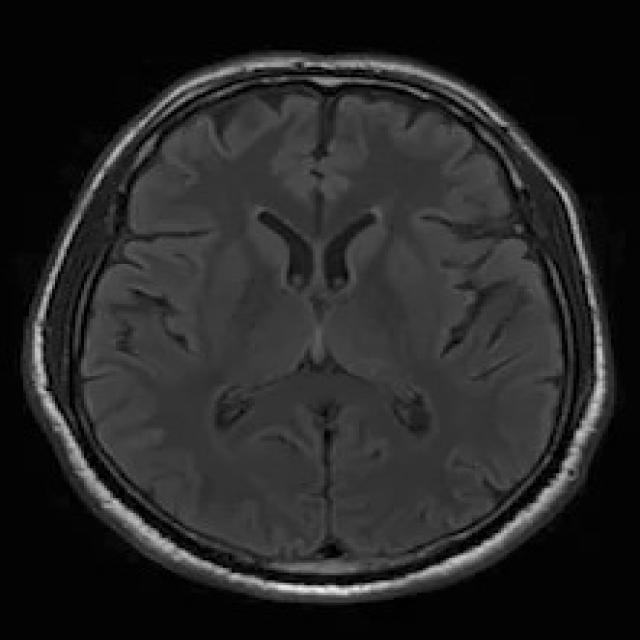No_Tumor: (24, 54, 613, 599)
